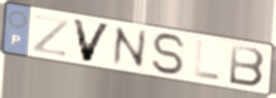B: (227, 43, 267, 90)
L: (192, 38, 222, 82)
N: (111, 24, 148, 70)
S: (150, 32, 189, 77)
V: (70, 16, 114, 64)
Z: (31, 13, 71, 59)
